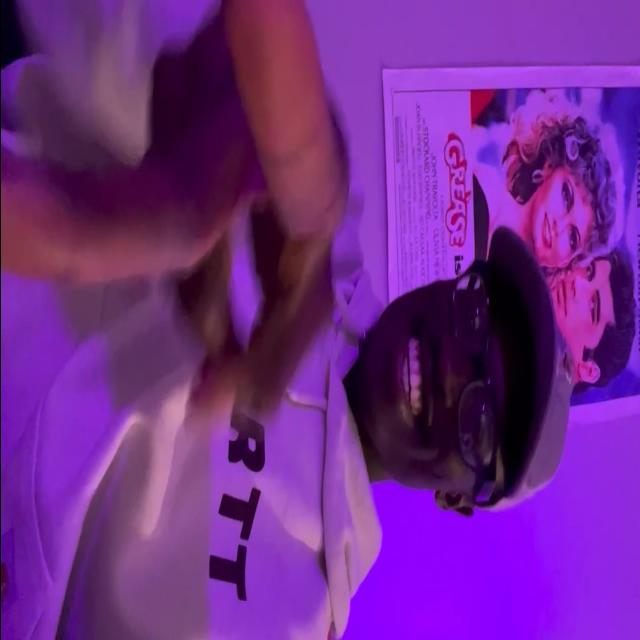Scissors: (0, 1, 350, 418)
